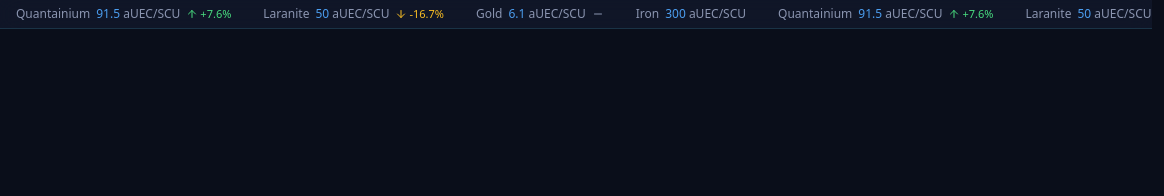
Test: PriceTicker › shows a sell-location tooltip on hover and hides it on leave
Expected: the element named "Live commodity prices" is shown, [0,0,1152,29]
Step 1. Hover over the 1st link "Laranite 50 aUEC/SCU -16.7%" → (354, 14), box [263,6,444,22]
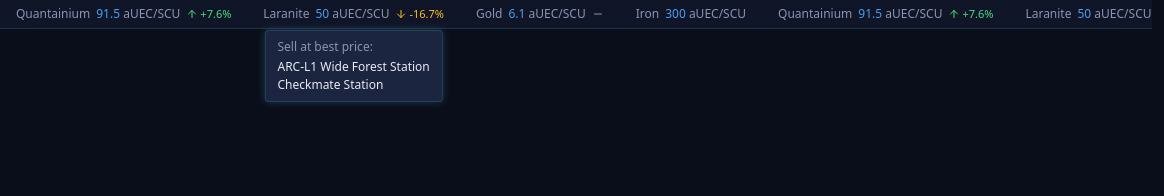
Expected: the element with test id "ticker-tooltip" shows "Sell at best price:", [278,38,373,55]
Expected: the element with test id "ticker-tooltip" shows "ARC-L1 Wide Forest Station", [278,58,430,75]
Expected: the element with test id "ticker-tooltip" shows "Checkmate Station", [278,76,383,93]
Step 2. Move the pointer off the 1st link "Laranite 50 aUEC/SCU -16.7%", box [263,6,444,22]
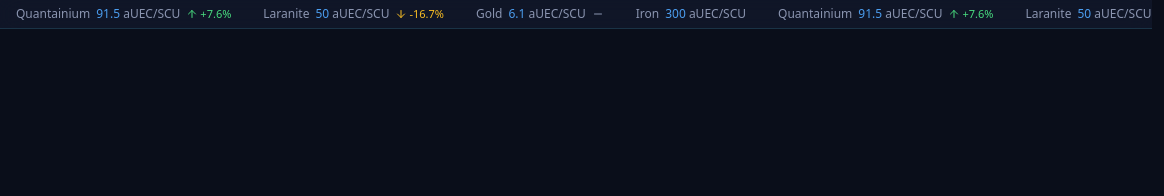
Expected: the element with test id "ticker-tooltip" is gone
Gekappte Liste zeigt den Rest als "+N more"
Step 3. Hover over the link "Gold 6.1 aUEC/SCU" → (540, 14), box [476,6,604,22]
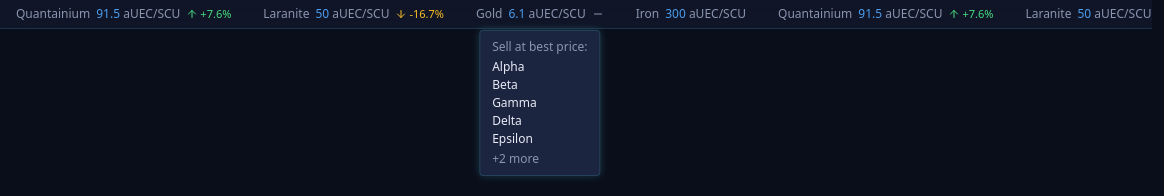
Expected: the element with test id "ticker-tooltip" shows "+2 more", [492,150,539,167]
